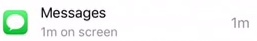name: (38, 3, 111, 23)
time: (39, 26, 59, 40)
